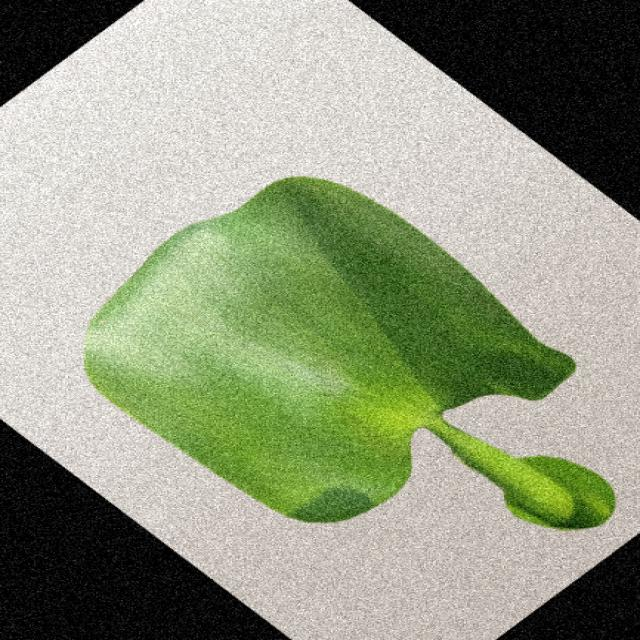daun sehat: (85, 178, 615, 530)
